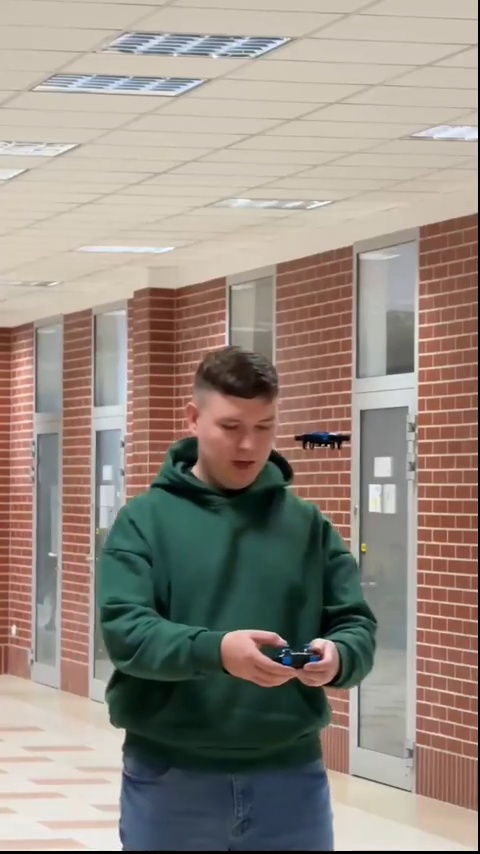drone: (292, 429, 349, 455)
no vest: (97, 349, 378, 841)
